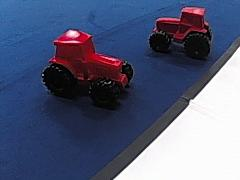Tracktor: (40, 26, 135, 106), (146, 4, 214, 56)
